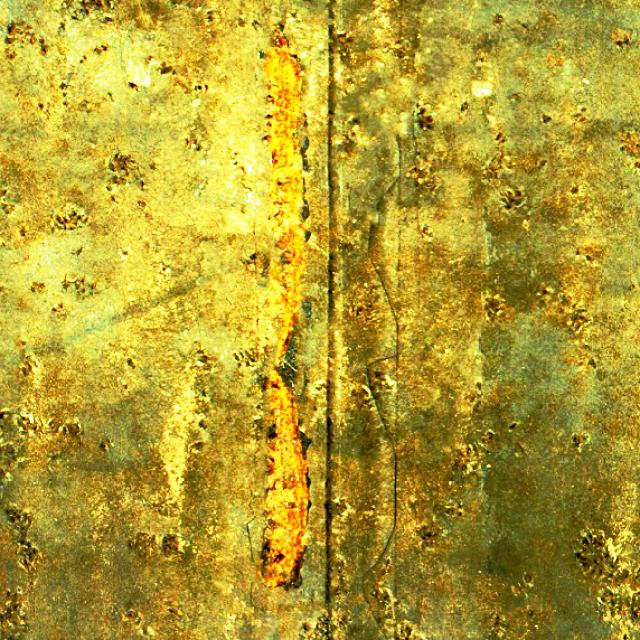Corrosion: (266, 29, 306, 367), (262, 375, 308, 585)
